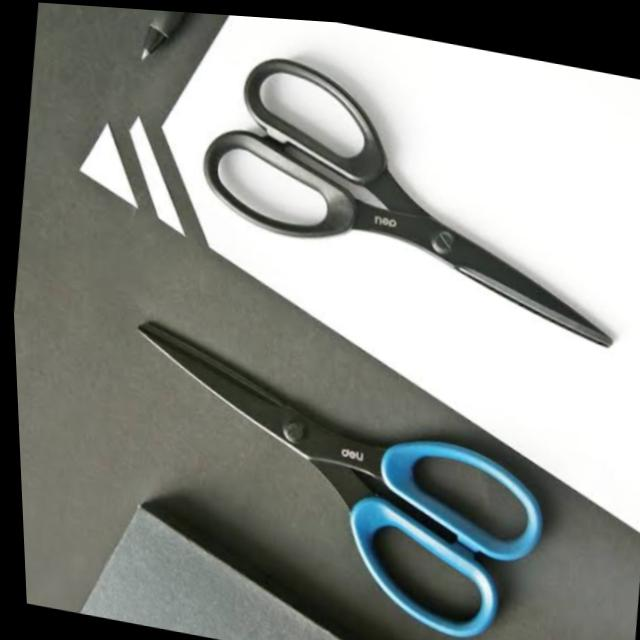scissor: (48, 289, 581, 640), (154, 26, 640, 362)
